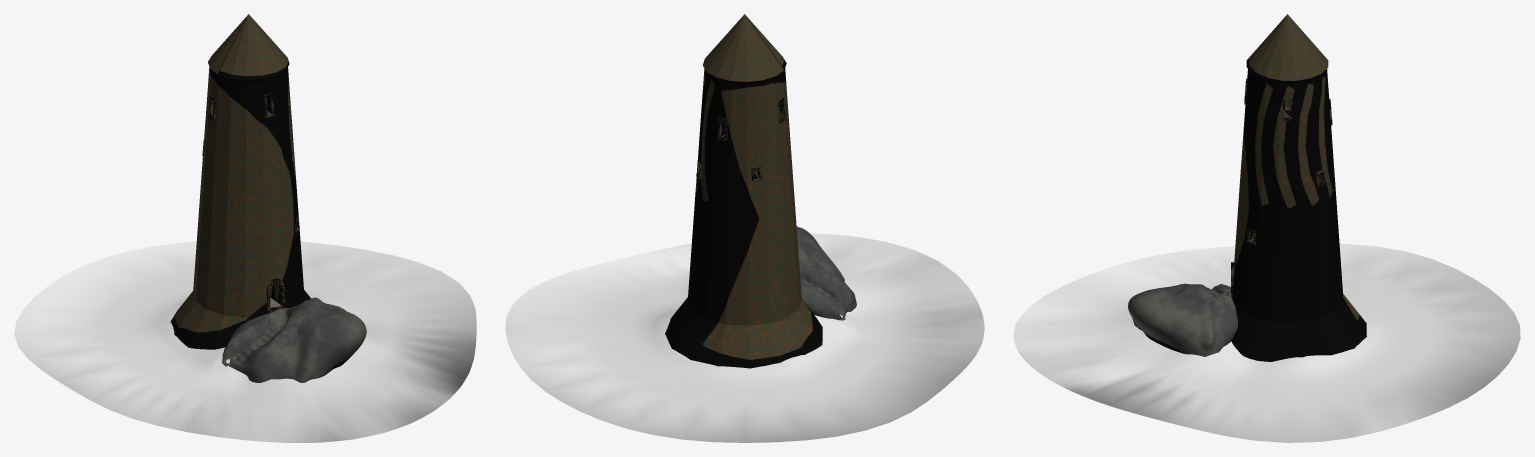
The model's file is tower-open-shaft-no-landings-silpom.fbx.
3 views of the same model, side by side, from view 1: azimuth 30°, elevation 25°; view 2: azimuth 150°, elevation 25°; view 3: azimuth 270°, elevation 25° (orthographic). The views are drawn at different scales.
Parts seen in each view (by area): view 1: SilPOM_Ordinary, SilPOM_Selected; view 2: SilPOM_Ordinary, SilPOM_Selected; view 3: SilPOM_Ordinary, SilPOM_Selected.
Part boxes in pixels (x1=…): SilPOM_Ordinary: x1=14, y1=14, x2=476, y2=442; SilPOM_Selected: x1=170, y1=67, x2=310, y2=349; SilPOM_Ordinary: x1=505, y1=14, x2=984, y2=442; SilPOM_Selected: x1=665, y1=68, x2=822, y2=368; SilPOM_Ordinary: x1=1013, y1=14, x2=1520, y2=442; SilPOM_Selected: x1=1231, y1=69, x2=1366, y2=361.
Bounding box in the file's own units: 37.66 × 40.47 × 30.23.
